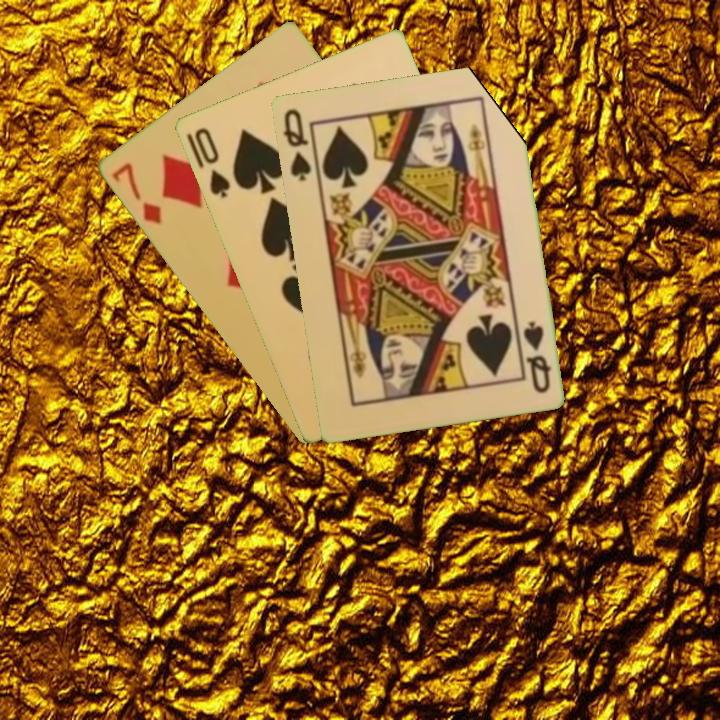10s: (190, 124, 233, 200)
7d: (108, 159, 164, 227)
Qs: (278, 105, 314, 184), (519, 318, 553, 396)
